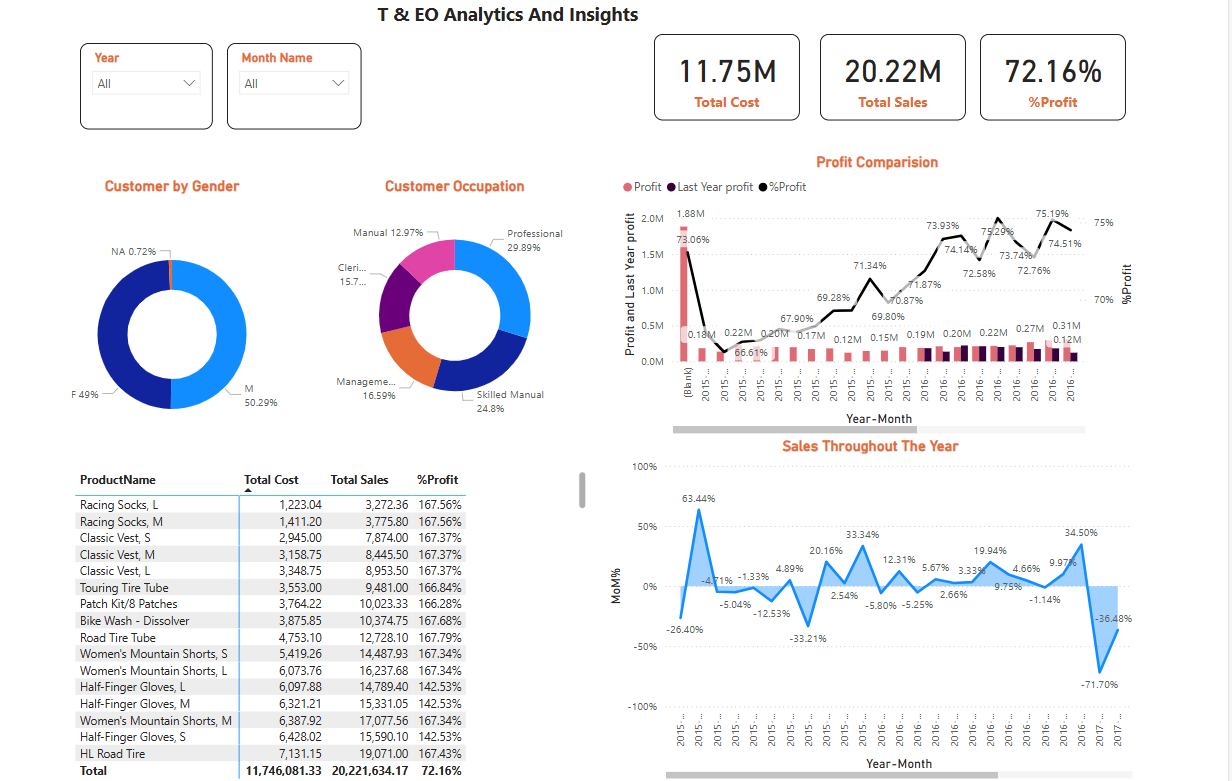

The page's visual inventory and layout, read from the dashboard file:
{"tool":"powerbi","page":{"name":"Dashboard","canvas":[1250,900],"ordinal":0},"visuals":[{"type":"areaChart","title":"Sales Throughout The Year","fields":{"Category":["DateTable.Year-Month"],"Y":["All Measures.MoM%"]},"box":[639.8,504.3,610.2,395.7],"z":0},{"type":"lineClusteredColumnComboChart","title":"Profit Comparision ","fields":{"Category":["DateTable.Year-Month"],"Y":["All Measures.Profit","All Measures.Last Year profit"],"Y2":["All Measures.%Profit"]},"box":[655.7,178.1,594.4,326.1],"z":1000},{"type":"donutChart","title":"Customer Occupation","fields":{"Category":["Customers.Occupation"],"Y":["CountNonNull(Customers.CustomerKey)"]},"box":[327.3,205.7,284,298.4],"z":2000},{"type":"donutChart","title":" Customer by Gender","fields":{"Y":["CountNonNull(Customers.CustomerKey)"],"Category":["Customers.Gender"]},"box":[0,205.7,291.2,341.7],"z":3000},{"type":"pivotTable","fields":{"Rows":["Products.ProductName"],"Values":["All Measures.Total Cost","All Measures.Total Sales","All Measures.%Profit"]},"box":[29.5,537.8,595.5,362.1],"z":4000},{"type":"slicer","fields":{"Values":["DateTable.Year"]},"box":[39.7,52.9,151.6,98.7],"z":5000},{"type":"slicer","fields":{"Values":["DateTable.Month Name"]},"box":[208.2,52.9,154,98.7],"z":6000},{"type":"textbox","box":[362.2,0,335.7,52.9],"z":7000},{"type":"card","fields":{"Values":["All Measures.Total Cost"]},"box":[697.9,42.1,167.2,98.7],"z":8000},{"type":"card","fields":{"Values":["All Measures.Total Sales"]},"box":[888,42.1,167.2,98.7],"z":9000},{"type":"card","fields":{"Values":["All Measures.%Profit"]},"box":[1070.9,42.1,167.2,98.7],"z":10000}]}

Visuals, with their boxes on the page's 1250x900 design canvas (x1, y1, x2, y2). These are canvas units, not pixel positions in the 1232x781 screenshot, which may show the page scaled, cropped or inside an application window:
"Sales Throughout The Year" areaChart: left=640, top=504, right=1250, bottom=900
"Profit Comparision " lineClusteredColumnComboChart: left=656, top=178, right=1250, bottom=504
"Customer Occupation" donutChart: left=327, top=206, right=611, bottom=504
" Customer by Gender" donutChart: left=0, top=206, right=291, bottom=547
pivotTable - Products.ProductName x All Measures.Total Cost: left=30, top=538, right=625, bottom=900
slicer - DateTable.Year: left=40, top=53, right=191, bottom=152
slicer - DateTable.Month Name: left=208, top=53, right=362, bottom=152
textbox: left=362, top=0, right=698, bottom=53
card - All Measures.Total Cost: left=698, top=42, right=865, bottom=141
card - All Measures.Total Sales: left=888, top=42, right=1055, bottom=141
card - All Measures.%Profit: left=1071, top=42, right=1238, bottom=141
